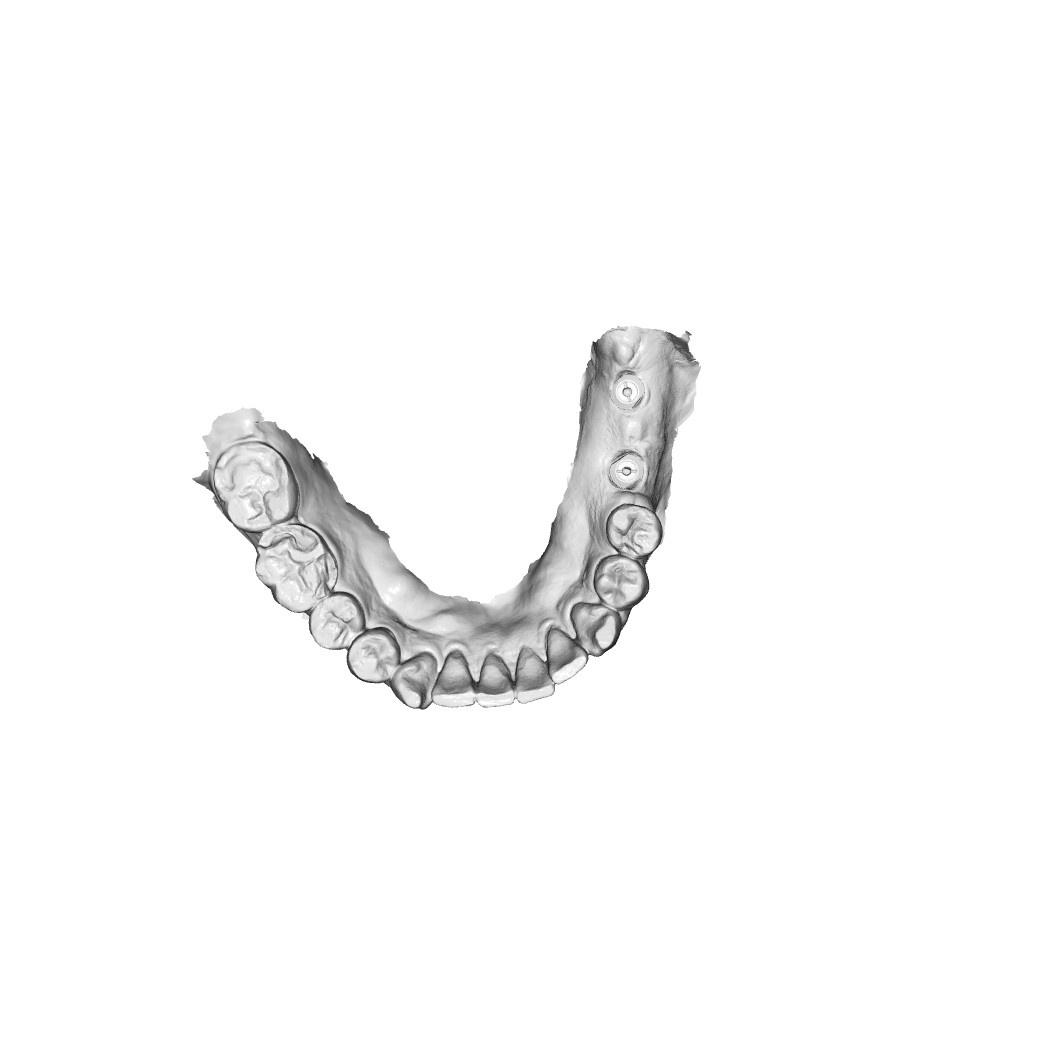canine: (564, 598, 622, 657), (391, 657, 439, 711)
implant_minus: (610, 450, 645, 490), (615, 369, 648, 409)
incisor: (513, 648, 557, 704), (437, 649, 477, 707), (478, 649, 515, 708), (548, 629, 589, 676)
molar: (211, 443, 301, 529), (257, 529, 337, 613)
premolar: (605, 504, 664, 558), (346, 627, 396, 685), (597, 554, 649, 605), (312, 600, 359, 650)
